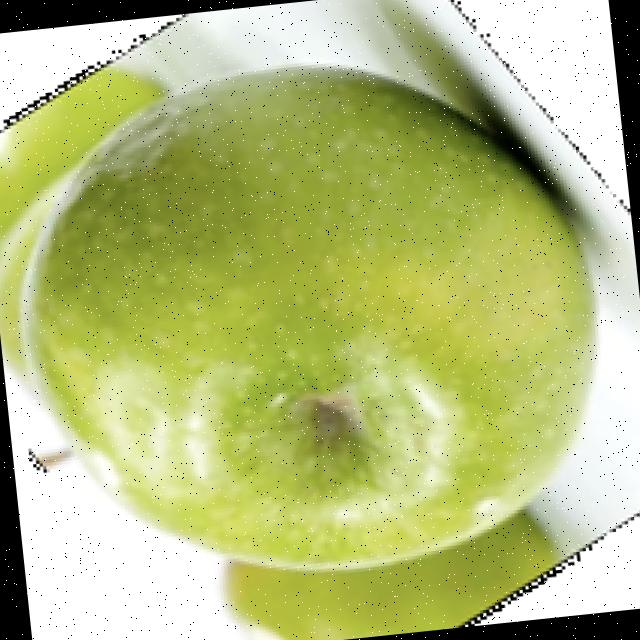apple: (0, 0, 631, 640)
